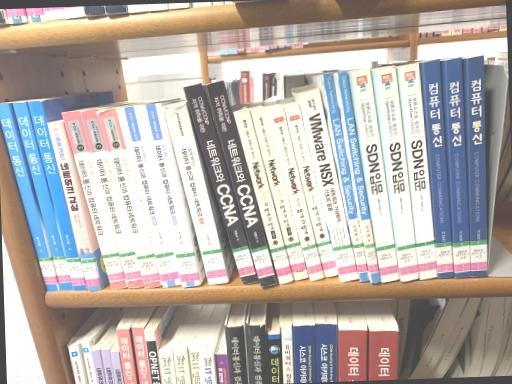book-spine: (204, 80, 277, 289), (182, 83, 257, 285), (116, 104, 181, 288), (162, 102, 227, 284), (61, 110, 127, 289), (297, 88, 358, 281), (79, 108, 144, 288), (12, 101, 73, 291), (97, 108, 161, 288), (26, 100, 86, 291), (139, 102, 200, 287), (0, 102, 59, 291), (350, 68, 399, 282), (233, 109, 292, 284), (251, 106, 308, 280), (268, 105, 324, 281), (322, 73, 369, 281), (283, 103, 338, 276), (337, 70, 380, 283), (47, 122, 101, 291), (376, 66, 418, 281), (399, 64, 437, 279), (422, 59, 453, 277), (444, 57, 471, 277), (467, 55, 487, 276)
